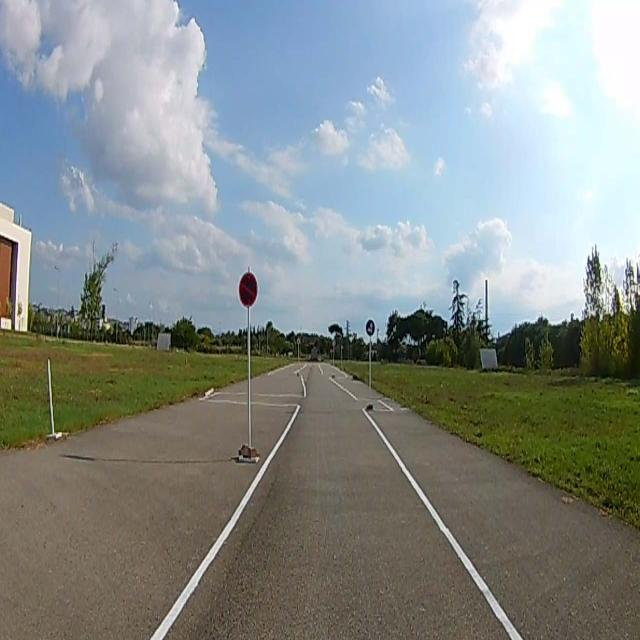ilerisol: (366, 319, 375, 335)
parkyasak: (238, 271, 258, 308)
